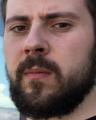without_mask: (1, 1, 96, 120)
